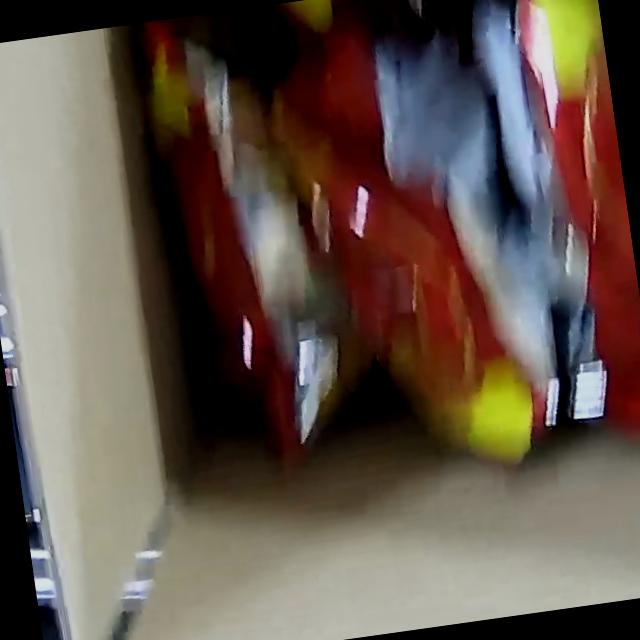masala: (128, 0, 640, 534)
